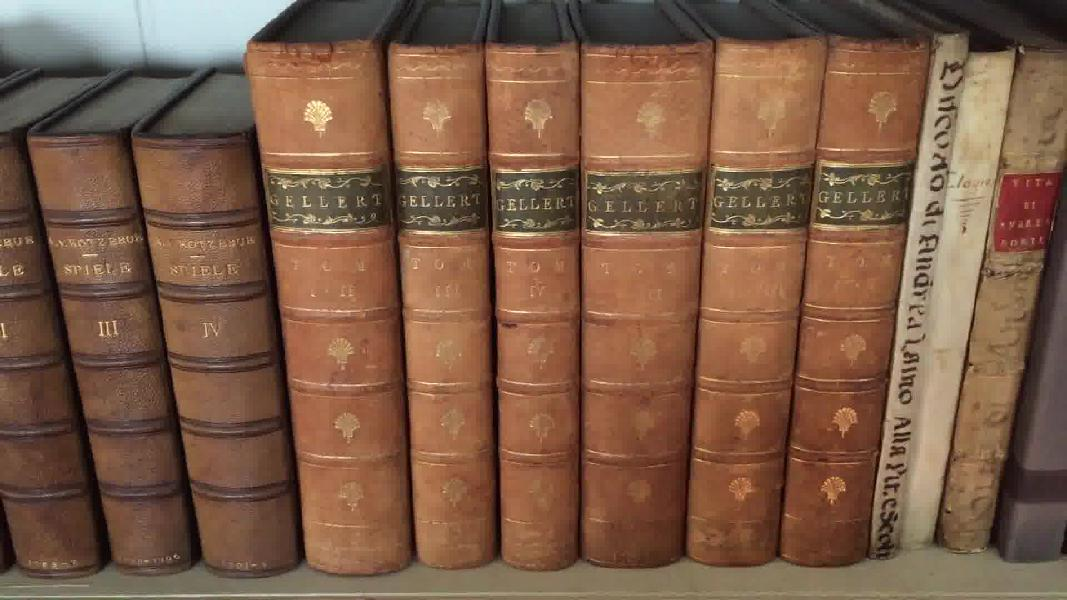Aa6-18_23: (242, 39, 944, 582)
Aa6-24: (863, 13, 969, 569)
Aa6-25: (906, 13, 1021, 575)
Aa6-26: (943, 46, 1067, 560)
